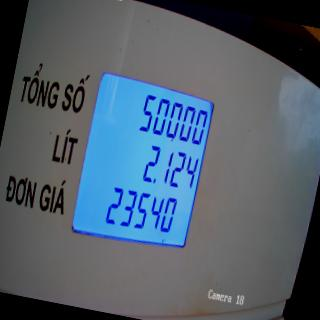screen: (66, 63, 220, 255)
